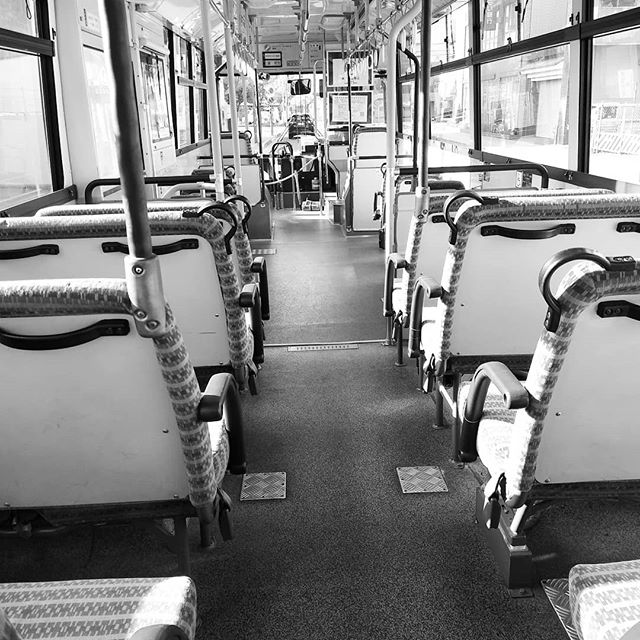bench: (1, 286, 275, 536), (467, 245, 640, 558), (1, 200, 265, 370), (422, 196, 640, 362)
window: (401, 1, 640, 165), (171, 19, 206, 148)
